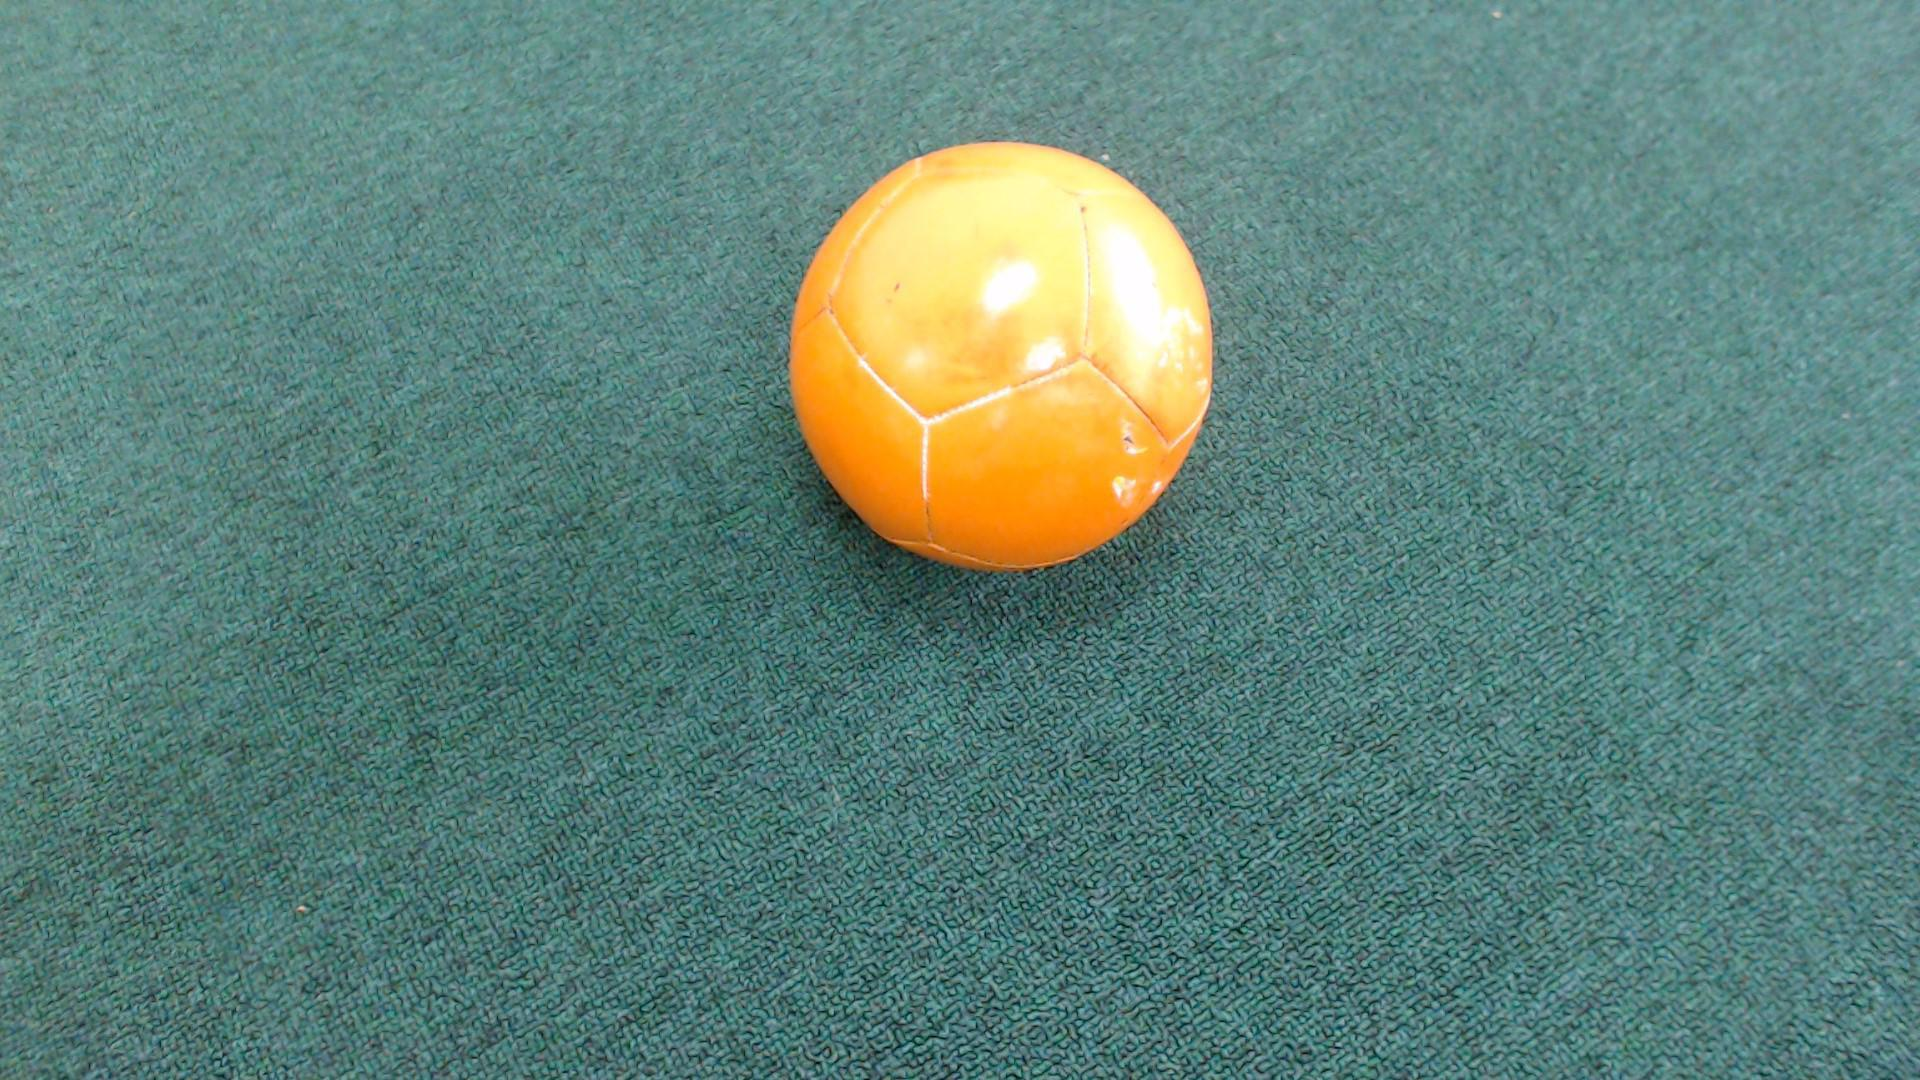bola: (774, 99, 1238, 615)
